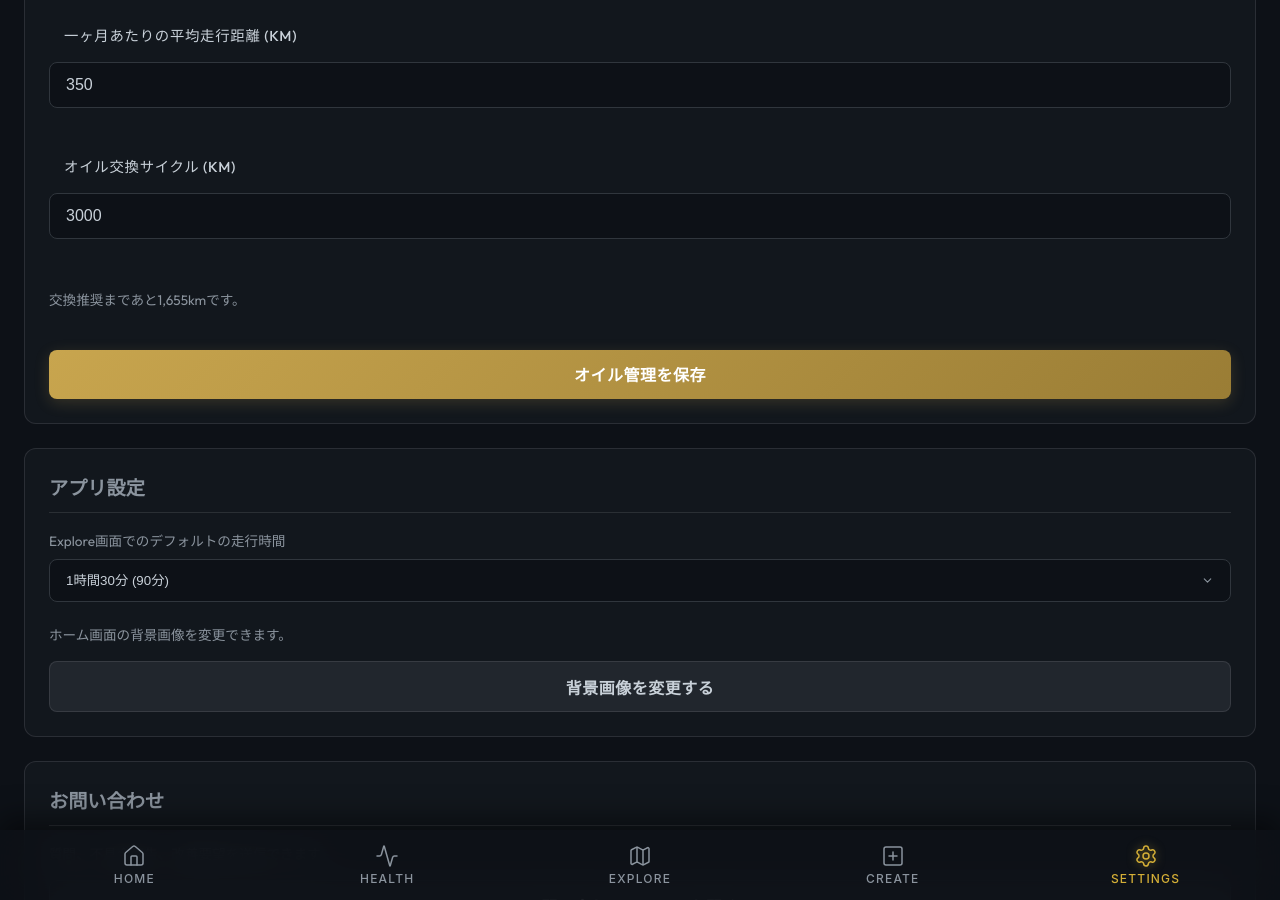
Test: SettingPage › ST-UT-014 デフォルト走行時間保存: localStorage を更新してメッセージを出す
(page scrolled)
Step 1. Select "2時間 (120分)" in the dropdown showing "1時間30分 (90分)" → [640, 580], box x1=49 y1=559 x2=1231 y2=602
(page scrolled)
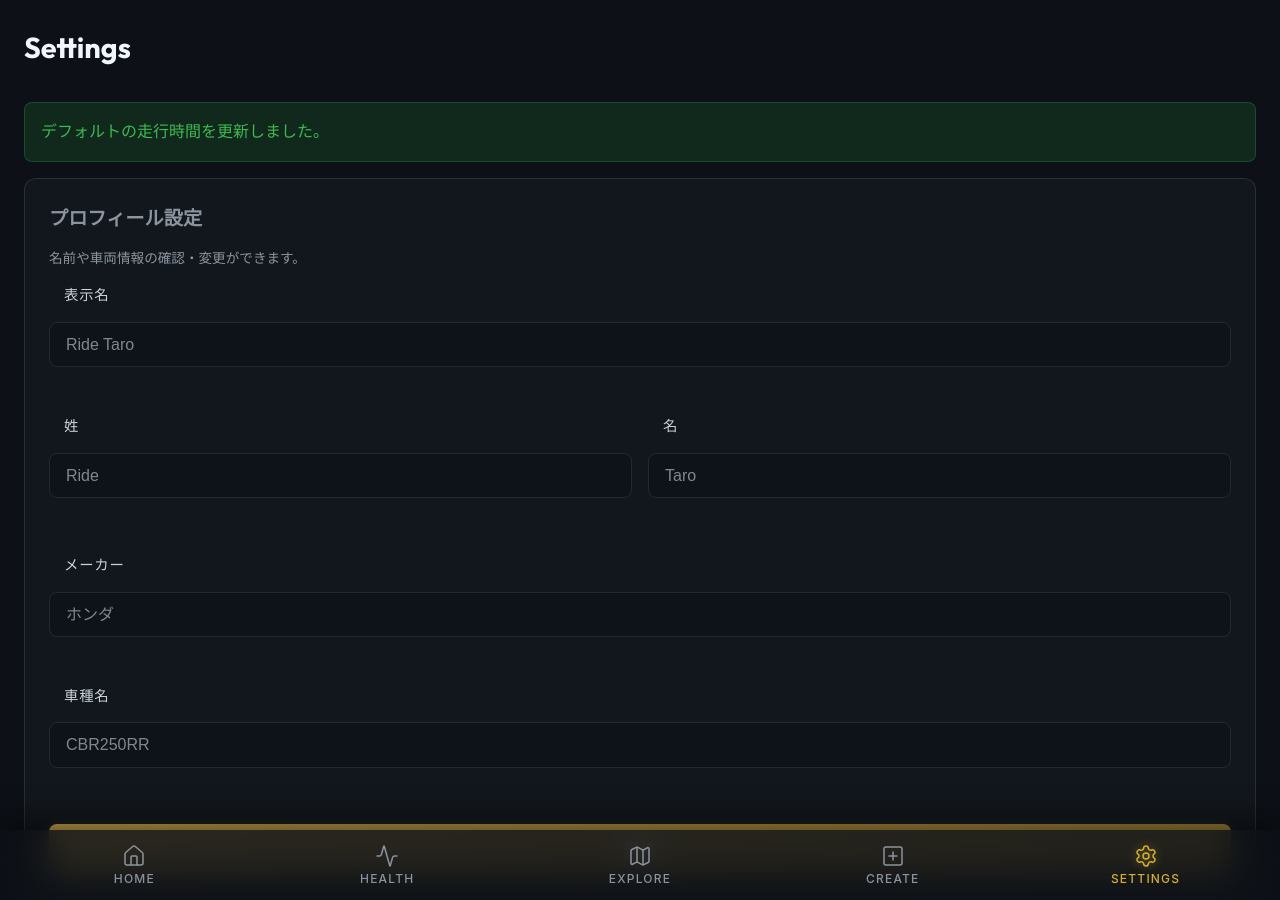
Now the text "デフォルトの走行時間を更新しました。" is shown, box x1=24 y1=102 x2=1256 y2=162
